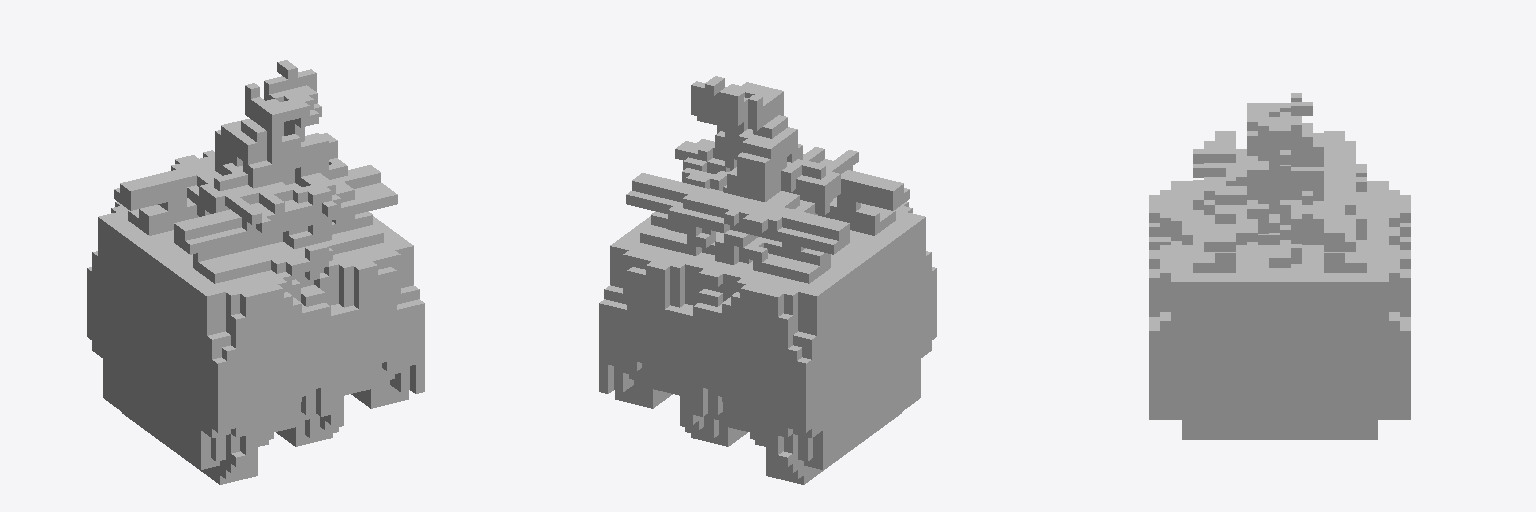
File: Stone Blockade 3.obj
The picture shows the model from 3 angles: view 1: azimuth 30°, elevation 25°; view 2: azimuth 150°, elevation 25°; view 3: azimuth 270°, elevation 25°; orthographic projection.
Parts seen in each view (by area): view 1: object 1; view 2: object 1; view 3: object 1.
Part boxes in pixels (x1,y1,x2,y2): object 1: (87, 60, 424, 484); object 1: (599, 76, 936, 484); object 1: (1149, 93, 1410, 439).
Bounding box in the file's own units: 2.2 × 3.5 × 2.4.